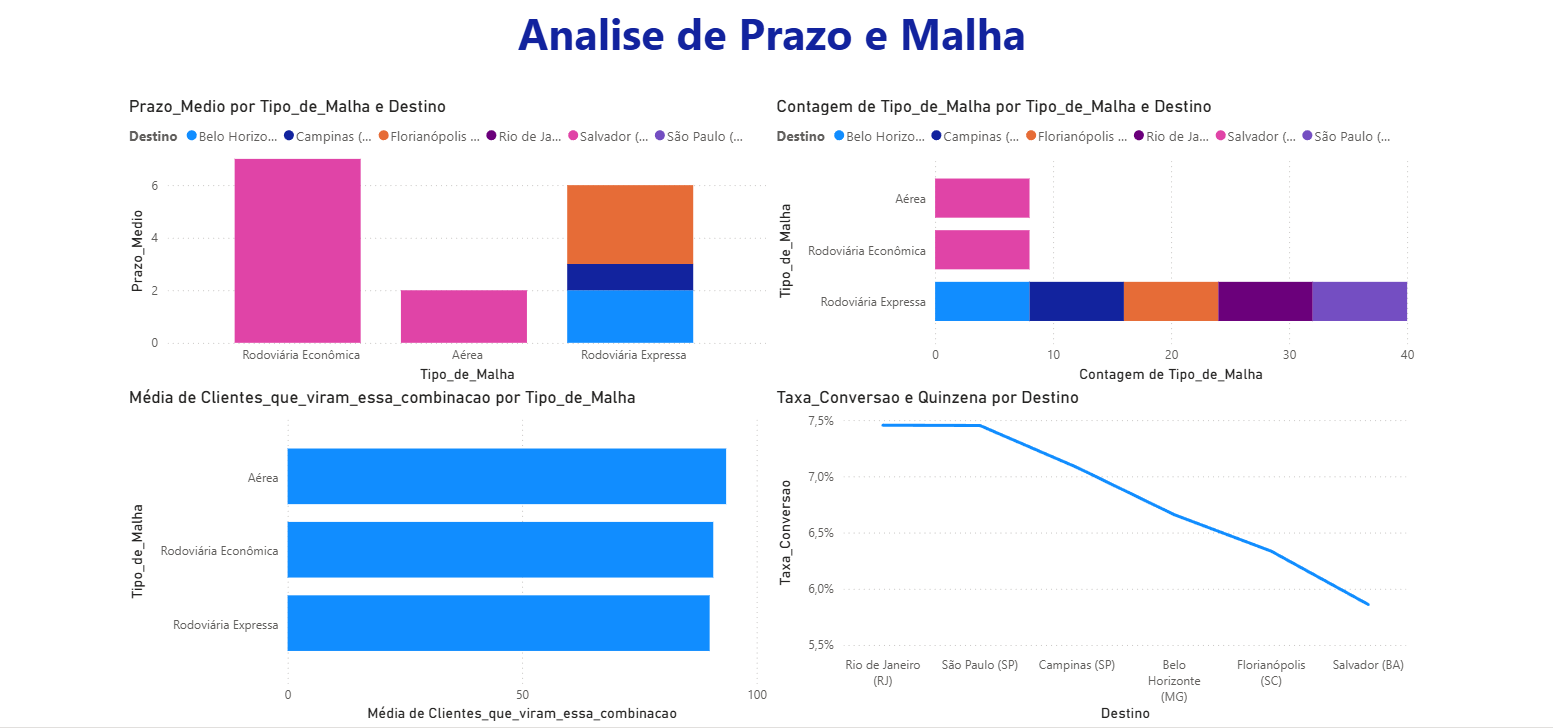

The dashboard page shown, as its layout file describes it:
{"tool":"powerbi","page":{"name":"Página 2","canvas":[1280,720],"ordinal":1},"visuals":[{"type":"barChart","fields":{"Category":["TabelaRoteiros.Tipo_de_Malha"],"Y":["Avg(Base.Clientes_que_viram_essa_combinacao)"]},"box":[0,384,640,336],"z":0},{"type":"lineChart","fields":{"Category":["Base.Destino"],"Y":["Base.Taxa_Conversao"]},"box":[640,384,640,336],"z":1000},{"type":"columnChart","fields":{"Series":["Base.Destino"],"Category":["TabelaRoteiros.Tipo_de_Malha"],"Y":["Base.Prazo_Medio"]},"box":[0,96,640,288],"z":2000},{"type":"barChart","fields":{"Category":["Base.Tipo_de_Malha"],"Series":["Base.Destino"],"Y":["CountNonNull(TabelaRoteiros.Tipo_de_Malha)"]},"box":[640,96,640,288],"z":3000},{"type":"textbox","box":[0,0,1280,96],"z":3001}]}

Visuals, with their boxes on the page's 1280x720 design canvas (x1, y1, x2, y2). These are canvas units, not pixel positions in the 1553x728 screenshot, which may show the page scaled, cropped or inside an application window:
barChart - TabelaRoteiros.Tipo_de_Malha x Avg(Base.Clientes_que_viram_essa_combinacao): rect(0, 384, 640, 720)
lineChart - Base.Destino x Base.Taxa_Conversao: rect(640, 384, 1280, 720)
columnChart - Base.Destino x TabelaRoteiros.Tipo_de_Malha: rect(0, 96, 640, 384)
barChart - Base.Tipo_de_Malha x Base.Destino: rect(640, 96, 1280, 384)
textbox: rect(0, 0, 1280, 96)
